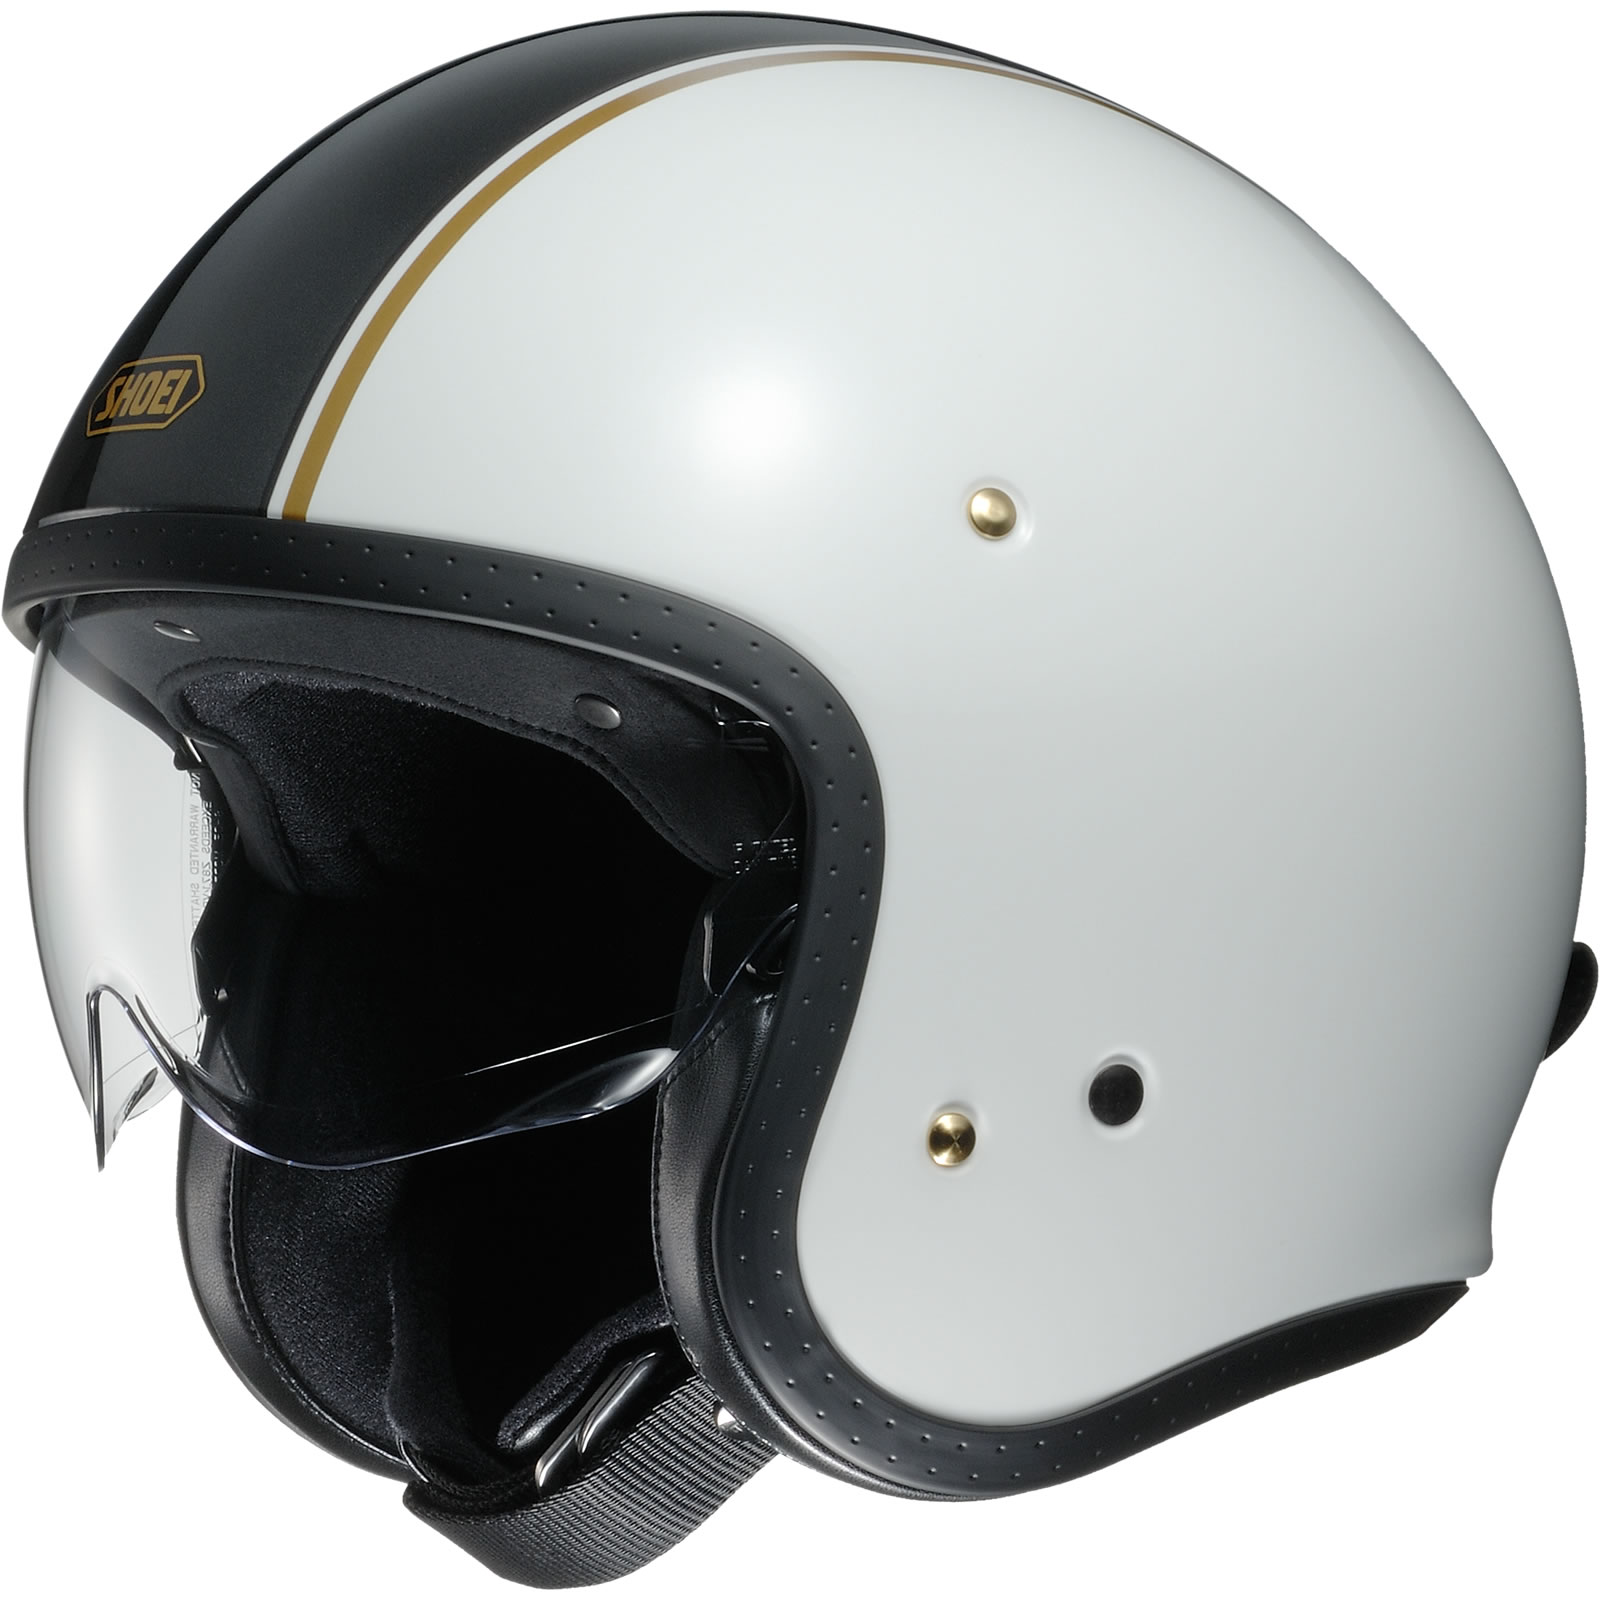with_helmet: (13, 12, 1593, 1499)
